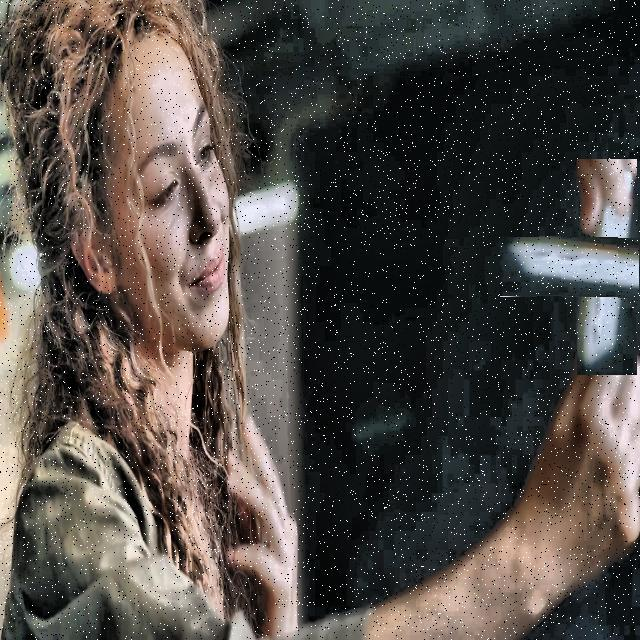Phone: (537, 197, 640, 335)
